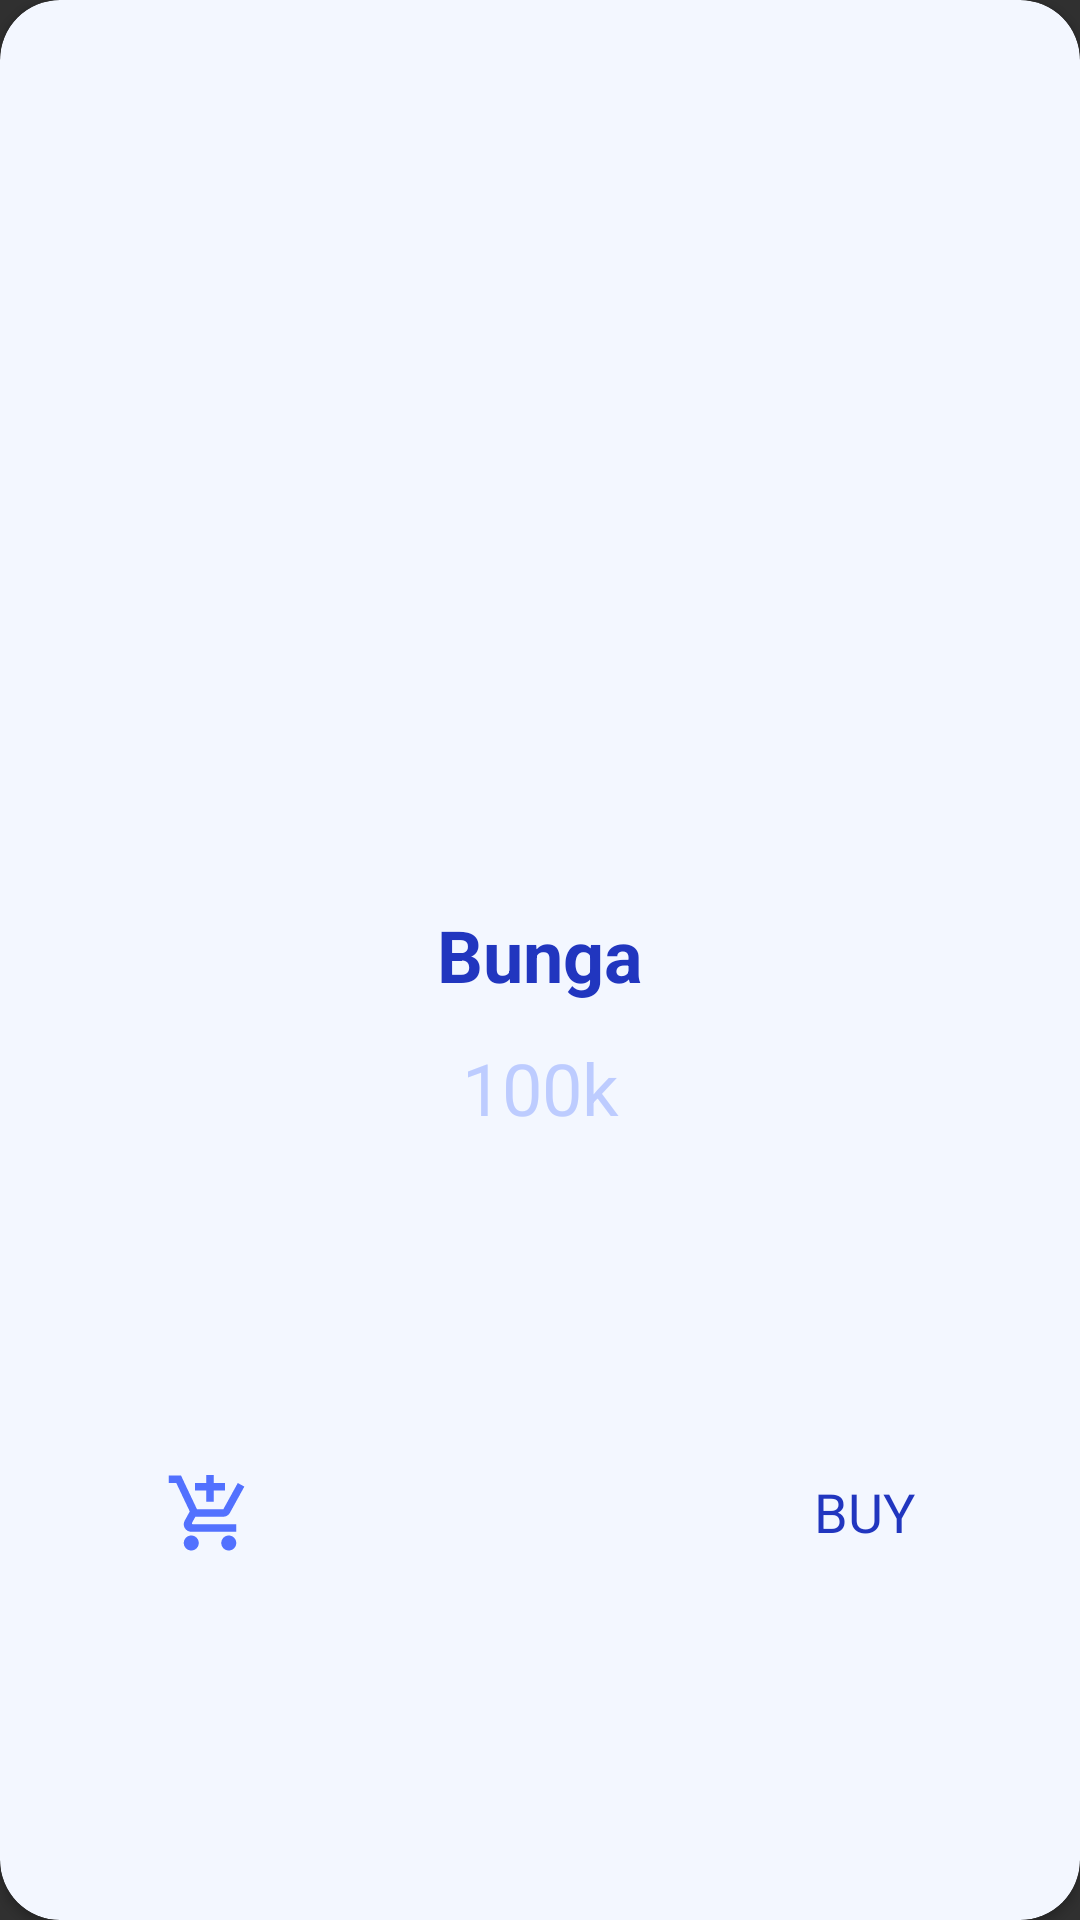

Named icons in this screenshot (1080 × 1920) and their centers, (x,y):
add shopping: (206,1513)
